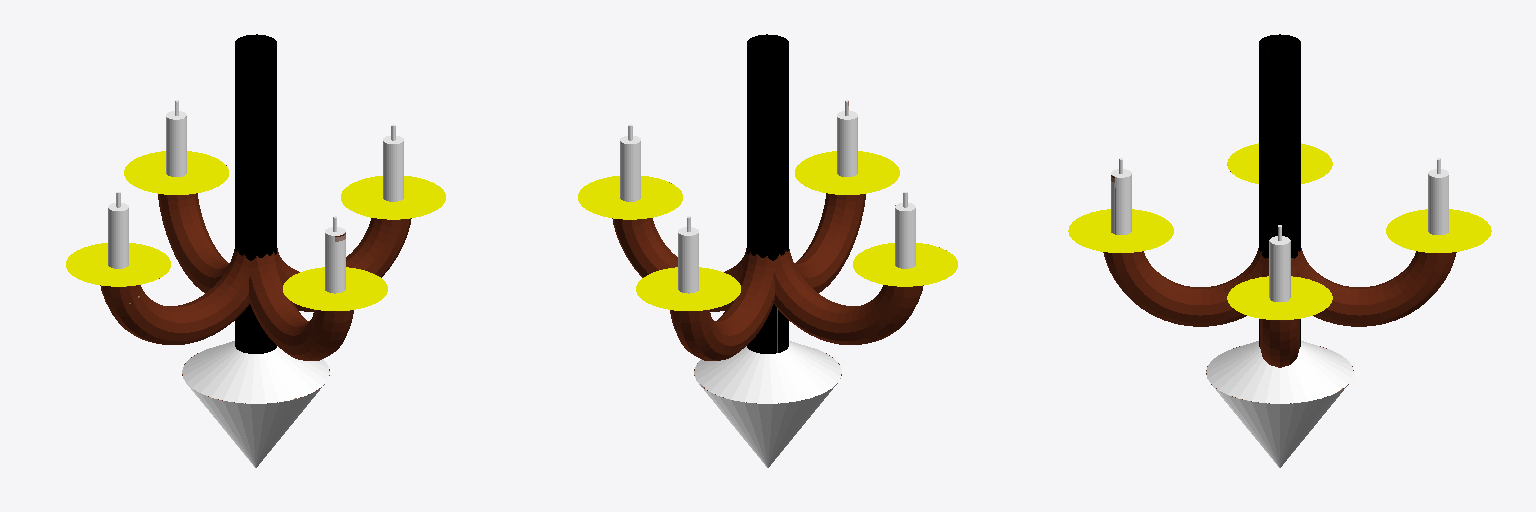
3 renders of one model, left to right at view 1: azimuth 30°, elevation 25°; view 2: azimuth 150°, elevation 25°; view 3: azimuth 270°, elevation 25°, orthographic.
Visible parts, largest first — view 1: 円柱; view 2: 円柱; view 3: 円柱.
Boxes of the visible parts, <box> form: 円柱: <box>66,34,445,467</box>; 円柱: <box>578,34,957,467</box>; 円柱: <box>1068,34,1491,467</box>.
Bounding box in the file's own units: 4 × 4.43 × 4.
1 materials, 1 textured.